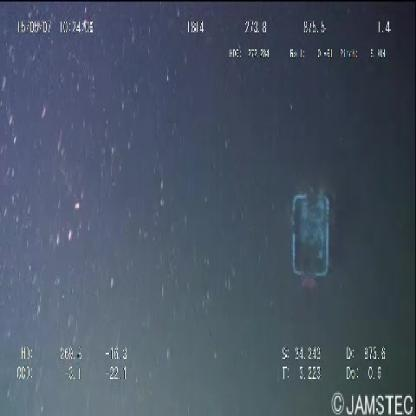Rác: (286, 185, 336, 293)
